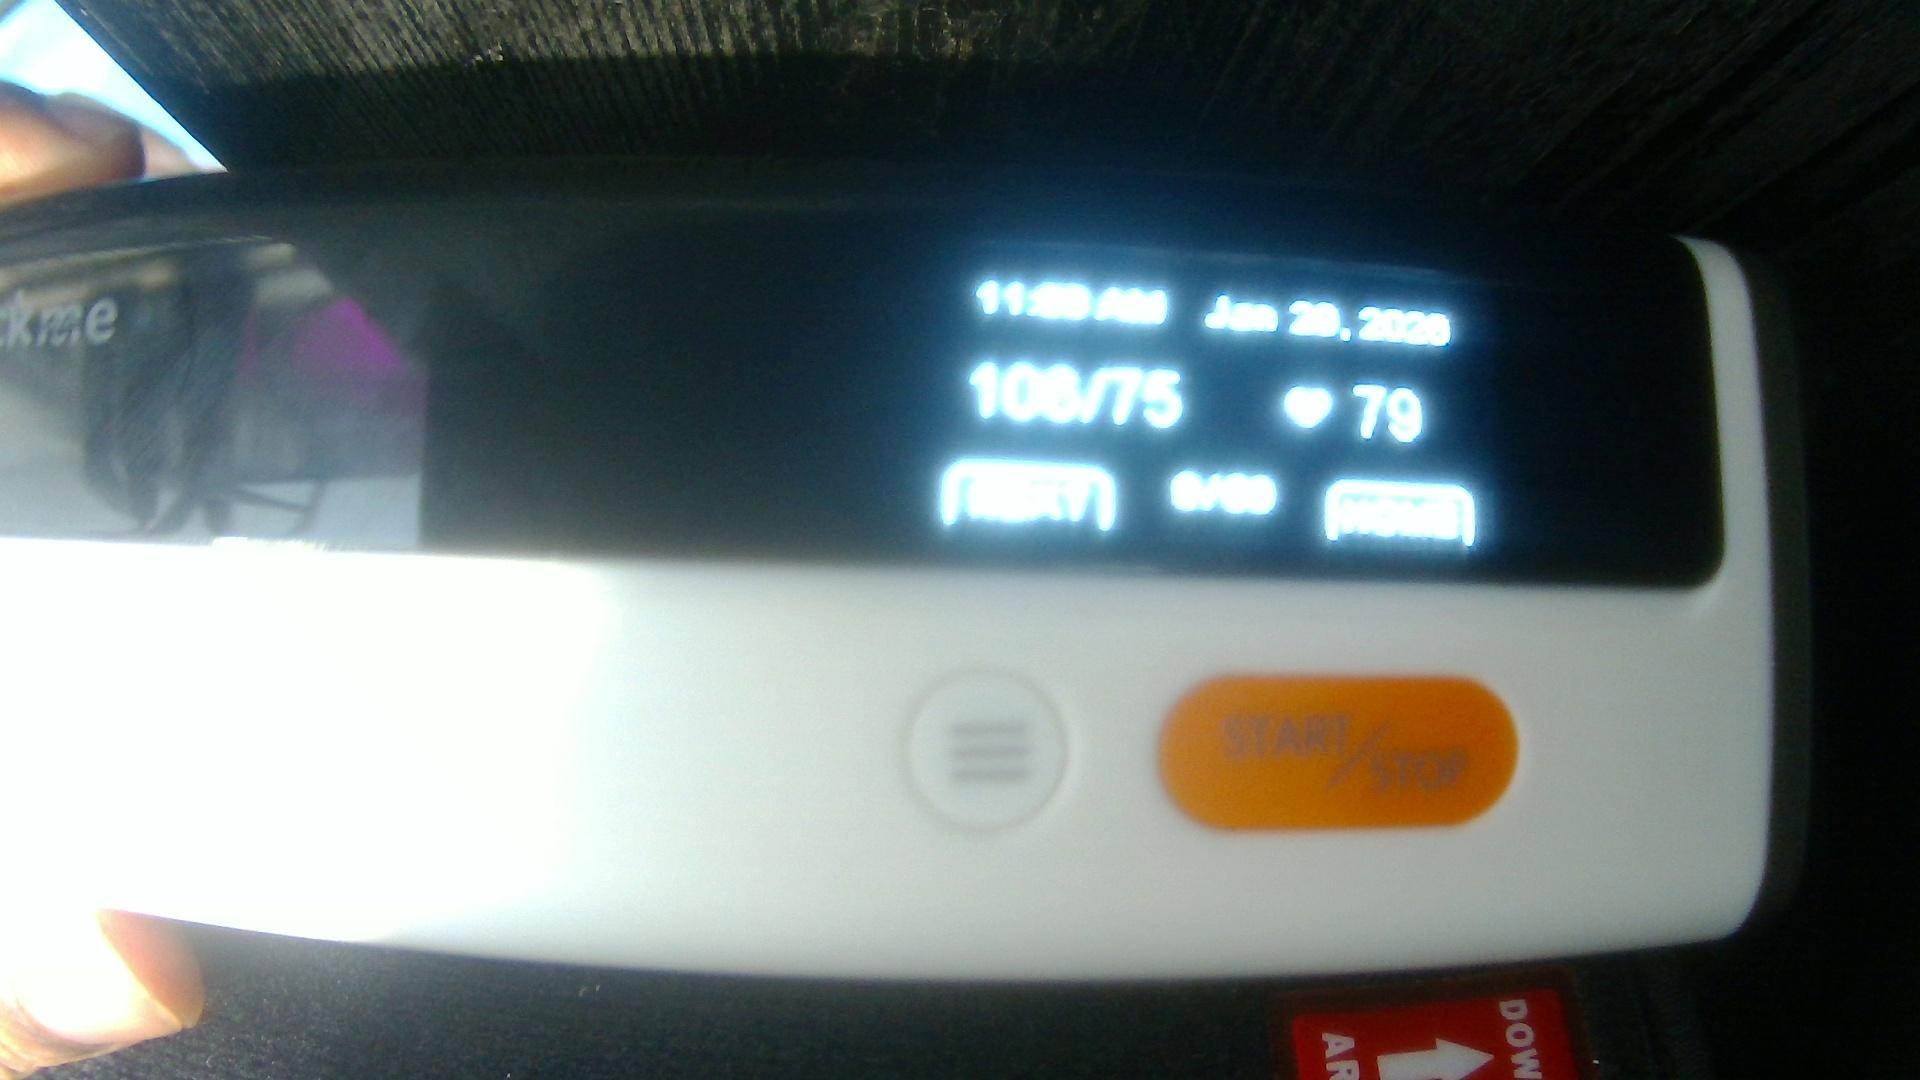DISPLAY: (29, 202, 1709, 589)
